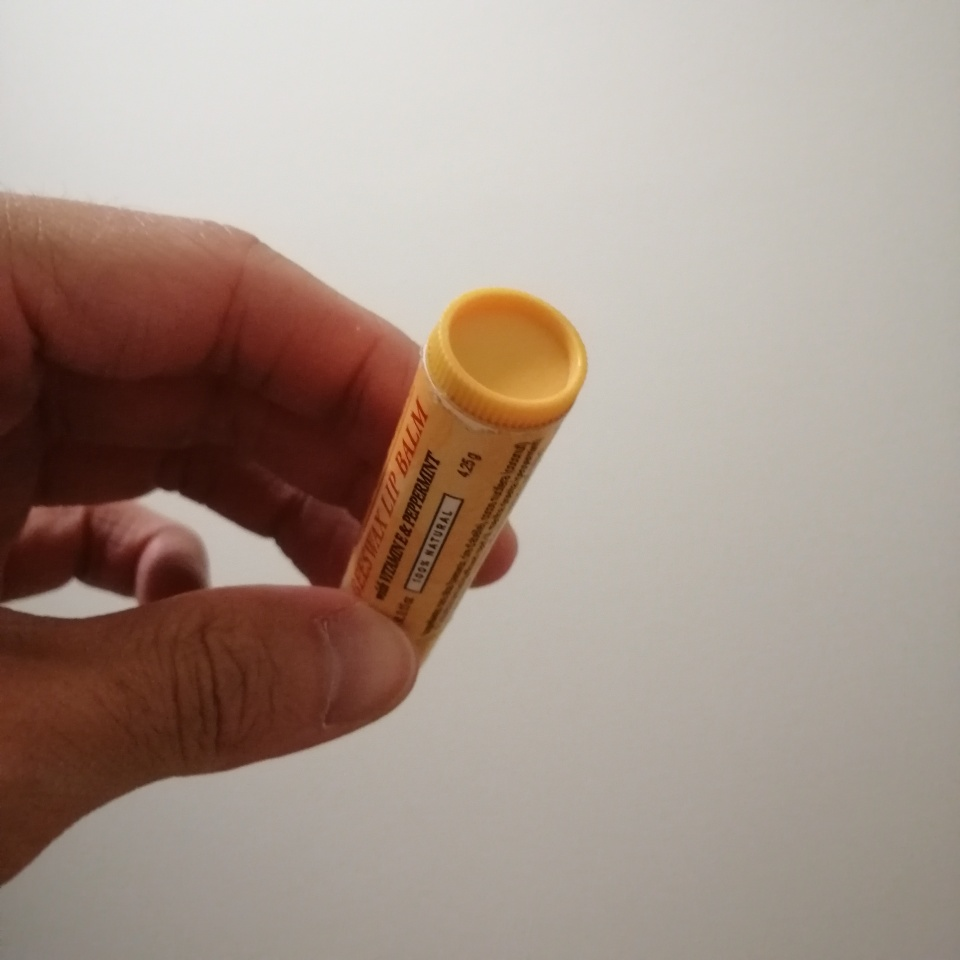chapstick: (344, 287, 589, 673)
